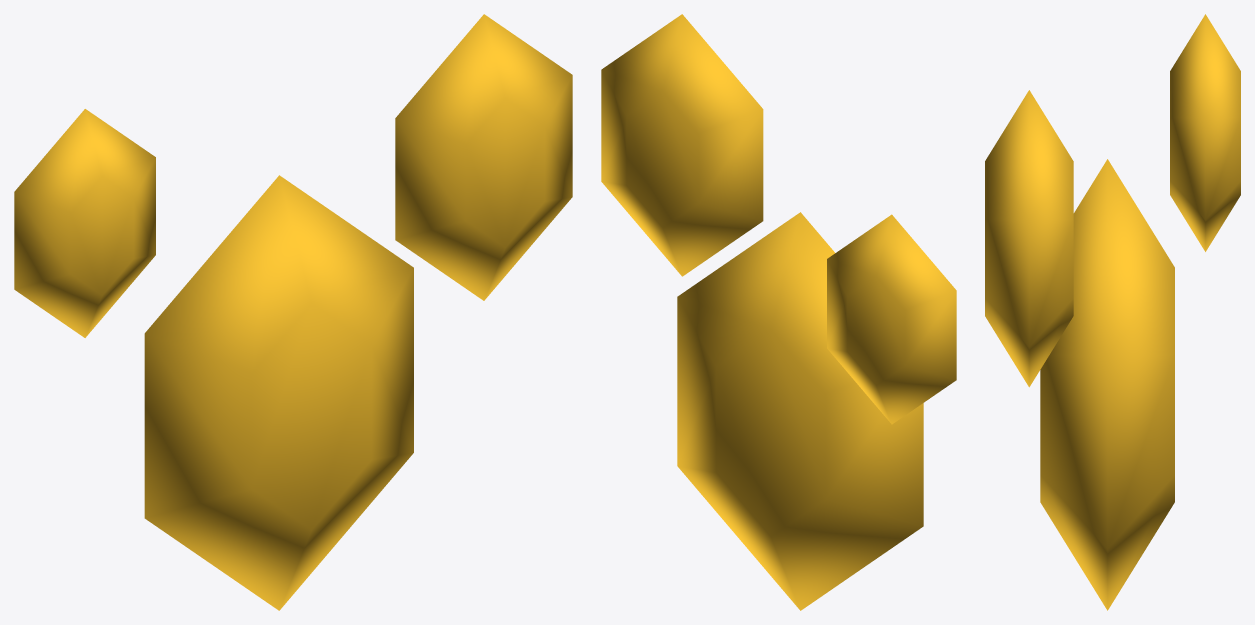
The model's file is Item_Coin_B.fbx.
3 renders of one model, left to right at view 1: azimuth 30°, elevation 25°; view 2: azimuth 150°, elevation 25°; view 3: azimuth 270°, elevation 25°, orthographic. The views are drawn at different scales.
Parts seen in each view (by area): view 1: ItemCoinBig; view 2: ItemCoinBig; view 3: ItemCoinBig.
Boxes of the visible parts, x1,y1,x2,y2 form: ItemCoinBig: (14, 14, 572, 610); ItemCoinBig: (601, 14, 956, 610); ItemCoinBig: (985, 14, 1240, 610).
Bounding box in the file's own units: 72.48 × 85.4 × 32.71.
1 material, 1 textured.
